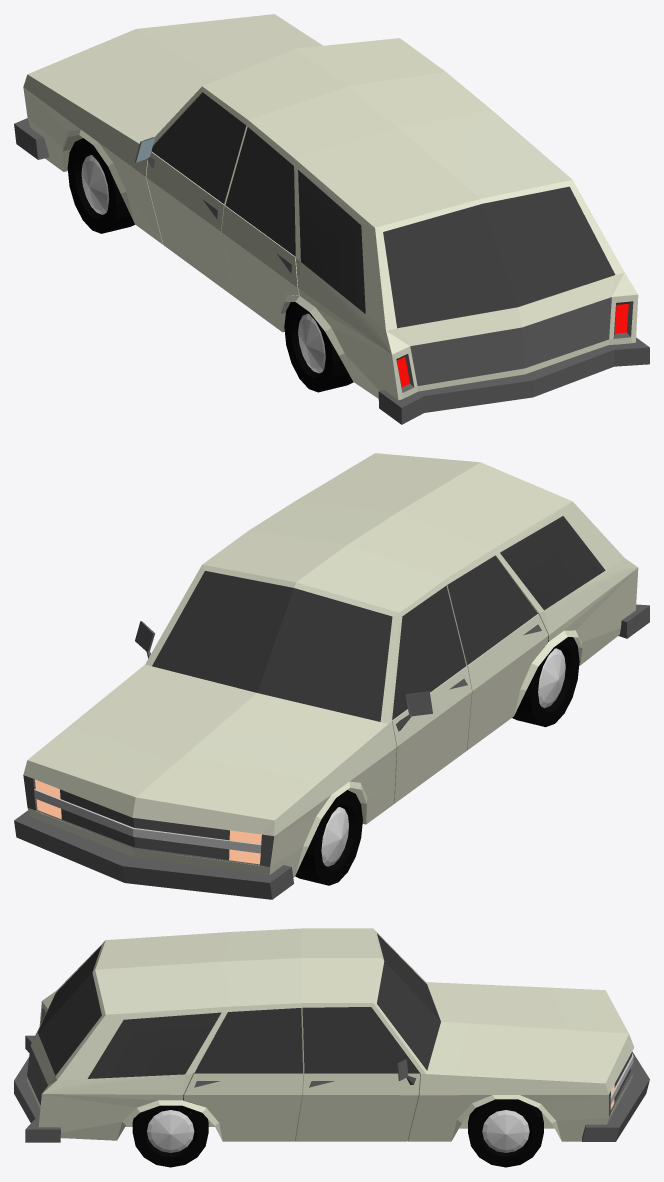
The model's file is Car_Long_6.glb.
3 renders of one model, top to bottom at view 1: azimuth 30°, elevation 25°; view 2: azimuth 150°, elevation 25°; view 3: azimuth 270°, elevation 25°, orthographic. The views are drawn at different scales.
Visible parts, largest first — view 1: wagon_A_Body.005, wagon_A_DoorL.005, wagon_A_DoorL2.005, wagon_AwheelFL.005, wagon_AwheelRL.005; view 2: wagon_A_Body.005, wagon_A_DoorL.005, wagon_A_DoorL2.005, wagon_AwheelFL.005, wagon_AwheelRL.005; view 3: wagon_A_Body.005, wagon_A_DoorR.005, wagon_A_DoorR2.005, wagon_AwheelFR.005, wagon_AwheelRR.005.
Boxes of the visible parts, <box> form: wagon_A_Body.005: <box>14,14,649,424</box>; wagon_A_DoorL.005: <box>135,92,246,297</box>; wagon_A_DoorL2.005: <box>221,127,299,332</box>; wagon_AwheelFL.005: <box>67,138,134,233</box>; wagon_AwheelRL.005: <box>284,302,353,392</box>; wagon_A_Body.005: <box>14,453,649,899</box>; wagon_A_DoorL.005: <box>392,585,471,803</box>; wagon_A_DoorL2.005: <box>447,555,548,750</box>; wagon_AwheelFL.005: <box>295,790,362,885</box>; wagon_AwheelRL.005: <box>512,635,579,727</box>; wagon_A_Body.005: <box>14,928,649,1142</box>; wagon_A_DoorR.005: <box>295,1007,420,1141</box>; wagon_A_DoorR2.005: <box>183,1008,303,1141</box>; wagon_AwheelFR.005: <box>468,1099,543,1167</box>; wagon_AwheelRR.005: <box>132,1094,208,1167</box>.
Bounding box in the file's own units: 2.1 × 1.42 × 5.01.
